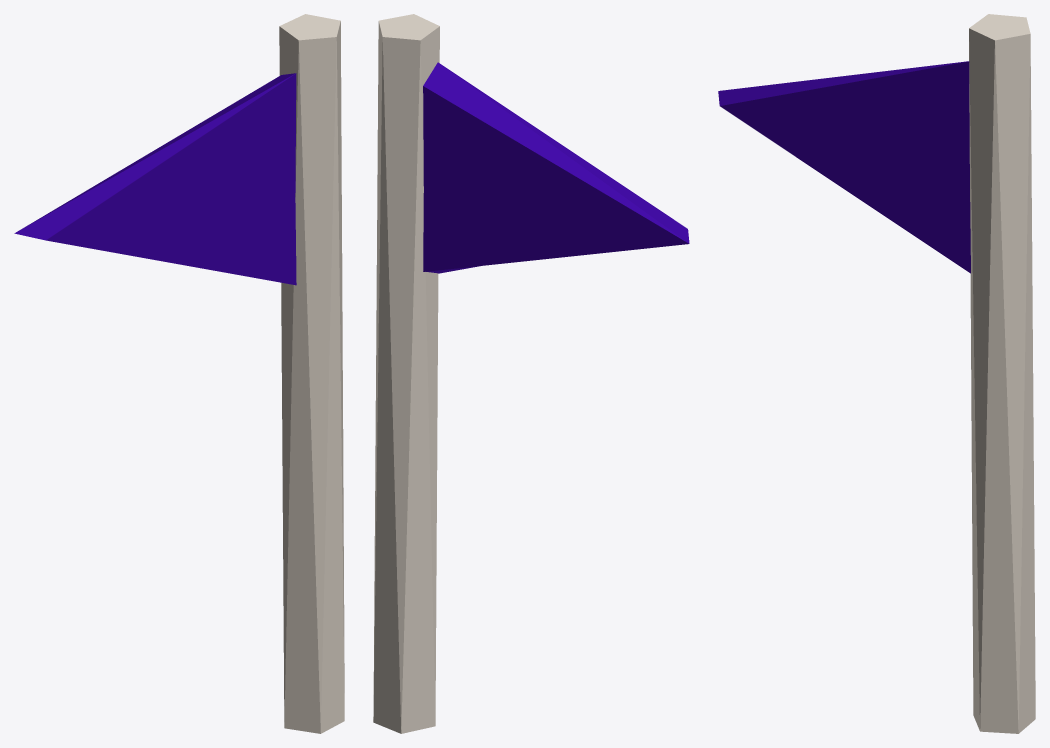
The model's file is Flag.fbx.
3 views of the same model, side by side, from view 1: azimuth 30°, elevation 25°; view 2: azimuth 150°, elevation 25°; view 3: azimuth 330°, elevation 25° (orthographic).
Parts seen in each view (by area): view 1: pCylinder3; view 2: pCylinder3; view 3: pCylinder3.
Part boxes in pixels (x1=…): pCylinder3: x1=14, y1=14, x2=344, y2=733; pCylinder3: x1=373, y1=14, x2=689, y2=733; pCylinder3: x1=718, y1=14, x2=1035, y2=733.
Bounding box in the file's own units: 4.12 × 8.56 × 0.7134.
